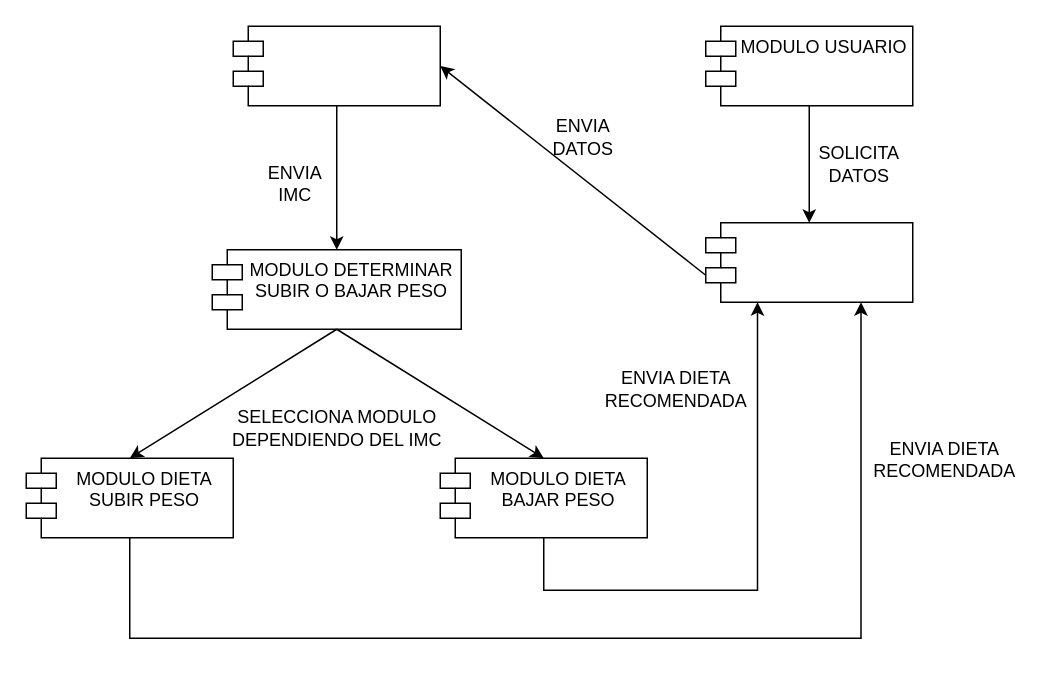
The diagram is 1055 pixels wide and 677 high, and some of its shapes have lost their labels. The shapes that lost their labels are listed below. From the top down, each one's centre as x and y in pixels, then its label:
At (x=336, y=65): "MODULO CALCULO IMC".
At (x=808, y=261): "INTERFAZ UI".
